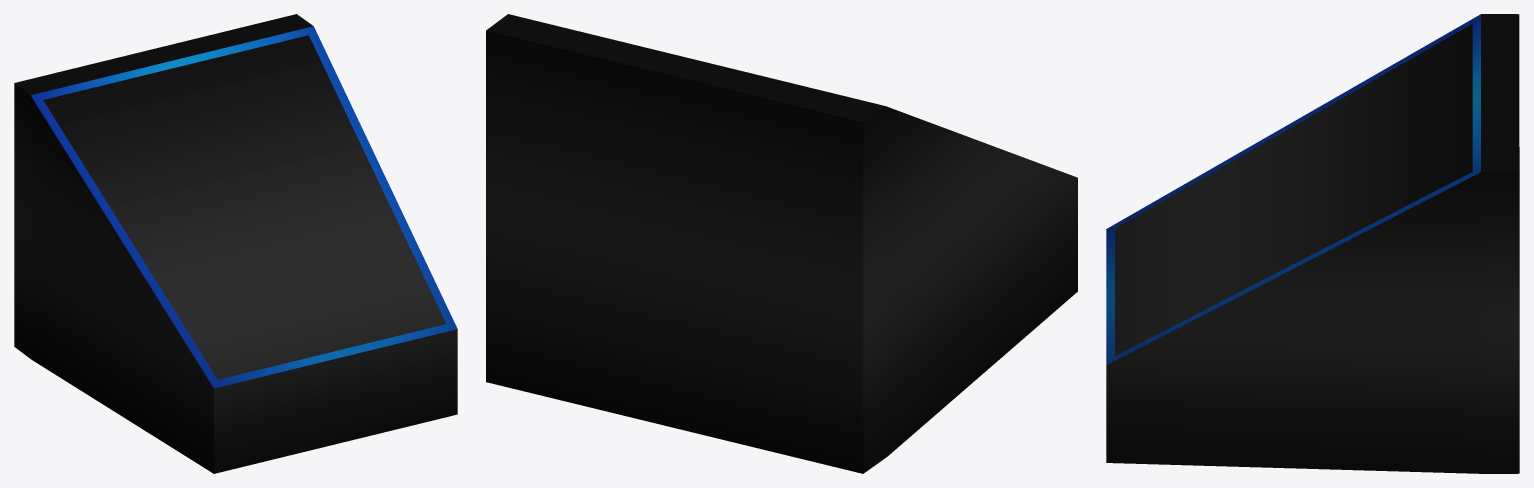
Rendered from UI_Elements_Buzzer.fbx.
3 renders of one model, left to right at view 1: azimuth 30°, elevation 25°; view 2: azimuth 150°, elevation 25°; view 3: azimuth 270°, elevation 25°, orthographic. The views are drawn at different scales.
Visible parts, largest first — view 1: BoardNeonCentralBase; view 2: BoardNeonCentralBase; view 3: BoardNeonCentralBase.
Boxes of the visible parts, x1=… form: BoardNeonCentralBase: x1=14, y1=14, x2=457, y2=473; BoardNeonCentralBase: x1=486, y1=14, x2=1077, y2=473; BoardNeonCentralBase: x1=1106, y1=14, x2=1519, y2=473.
Bounding box in the file's own units: 25.57 × 24.62 × 28.22.
Materials: 2 (2 with a texture image).
